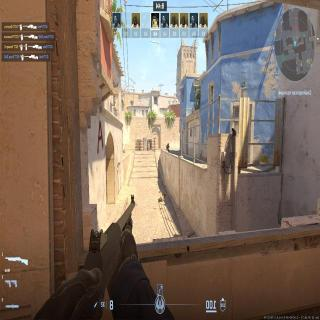CT-Body: (165, 139, 171, 153)
CT-Head: (167, 140, 170, 146)
